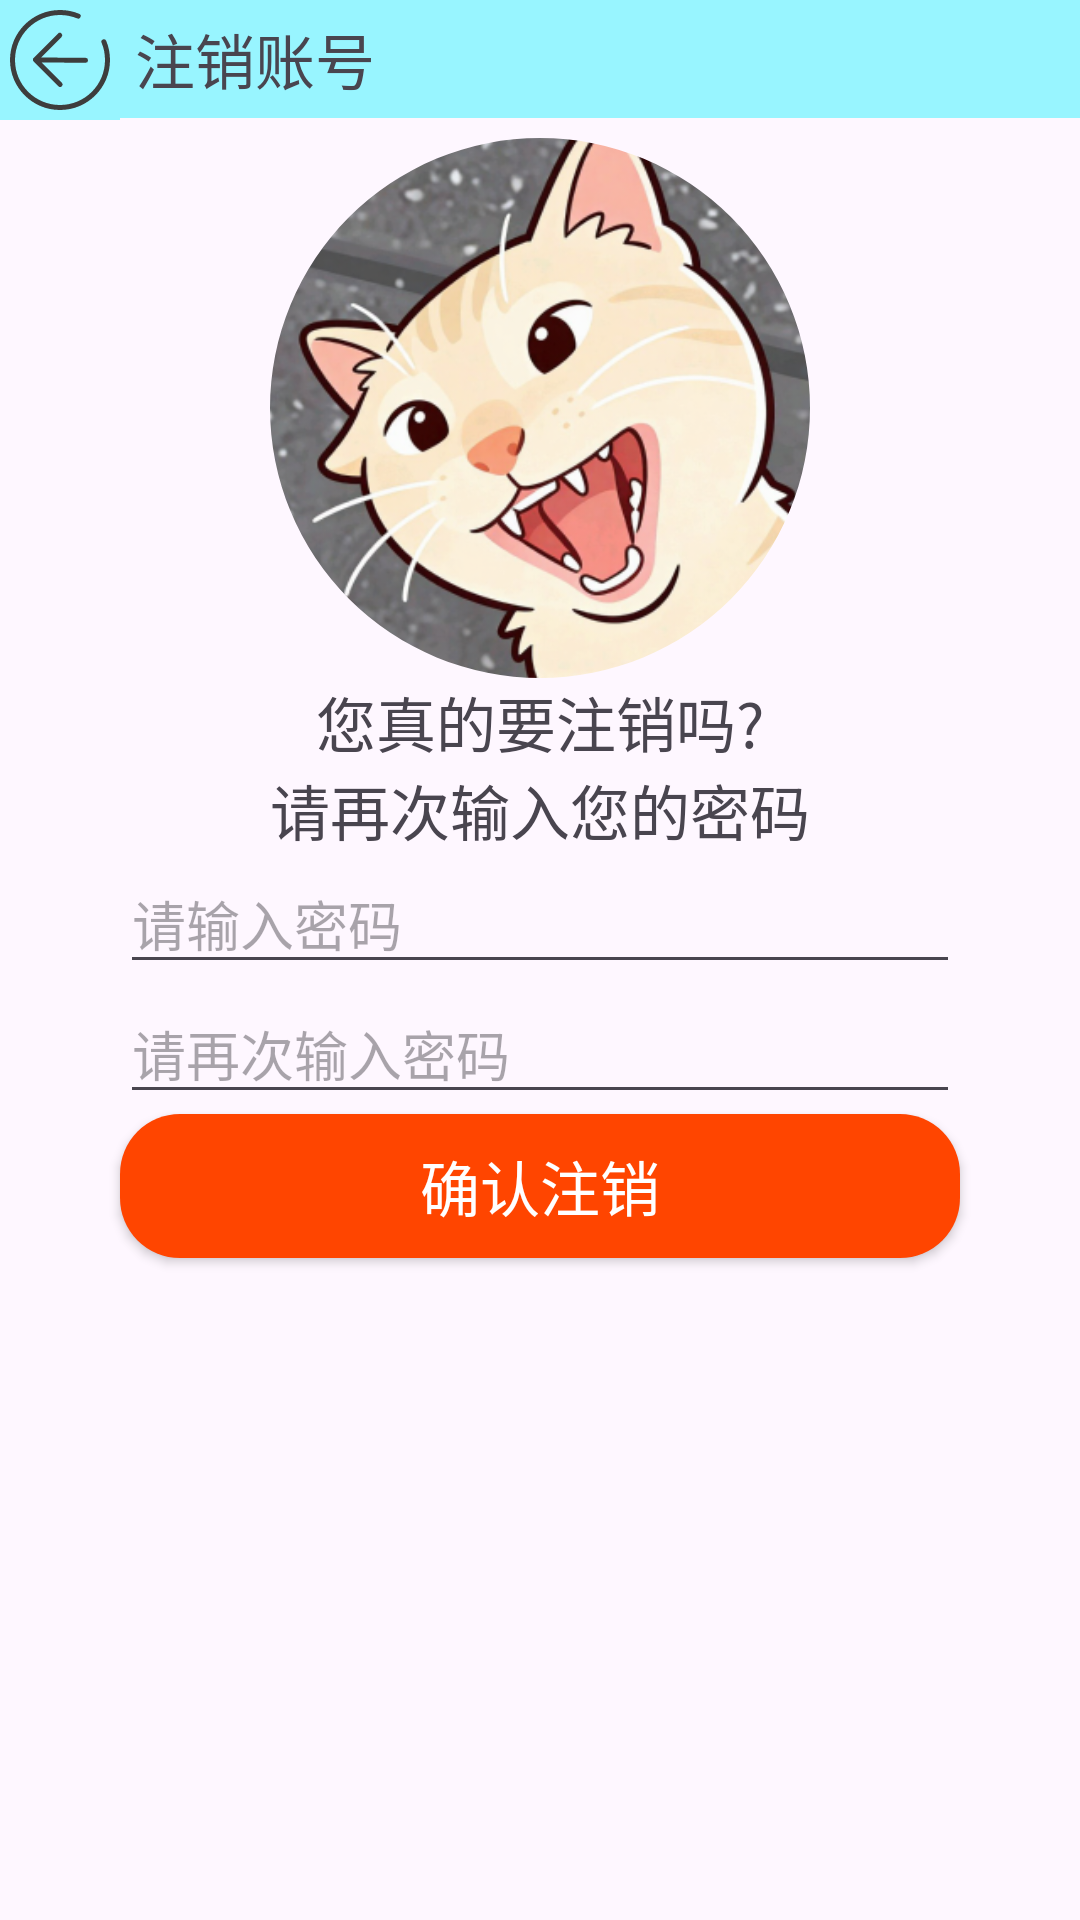

Named icons in this screenshot (1080*1920) and their bounding boxes, (x1, y1, x2, y2):
back: (10, 10, 110, 110)
